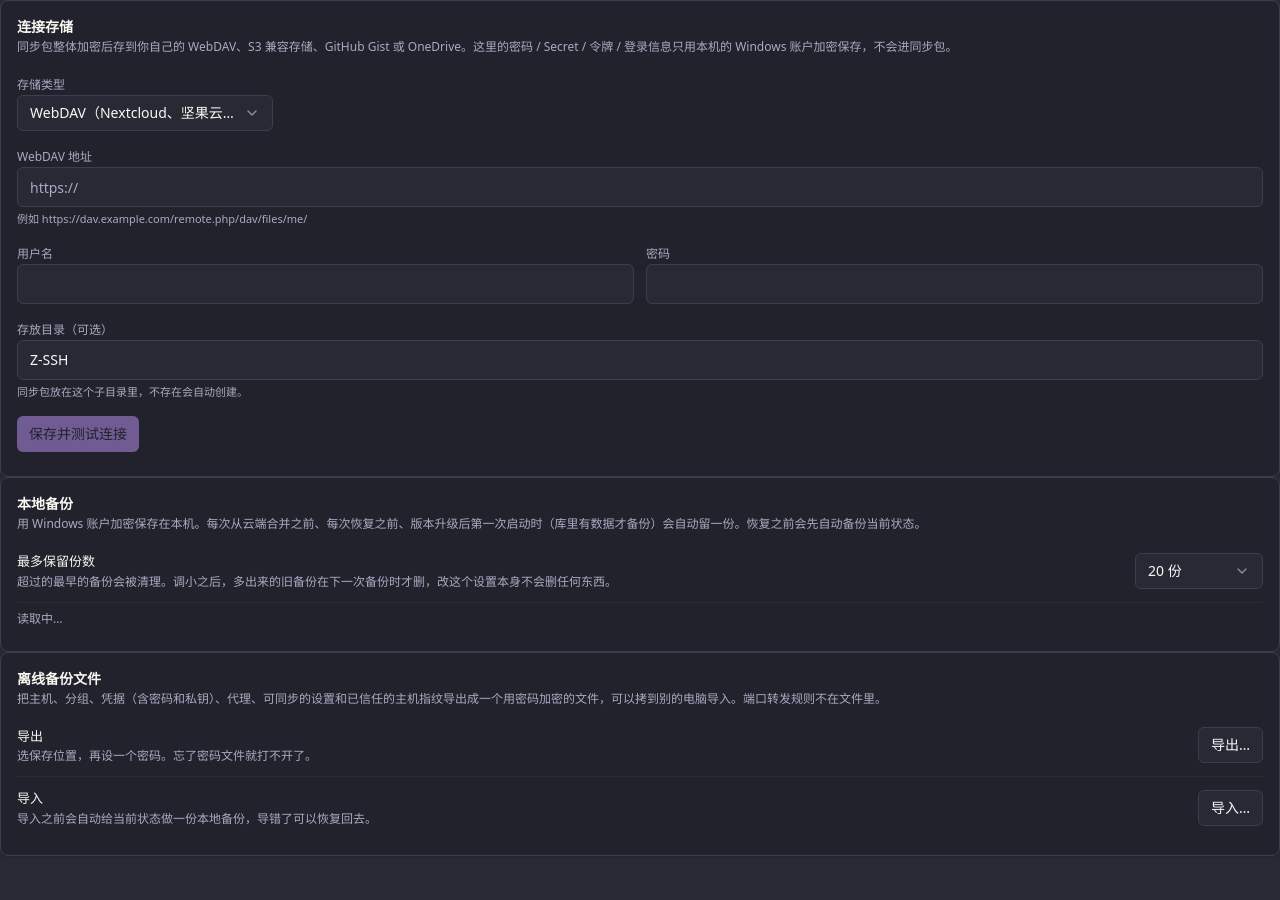
未配置 / 连接 › 没连接存储时只有连接表单，保存按钮在填完之前不可点
The image size is (1280, 900).
expect the element with test id "sync-connection-form" is shown: met, box [17,63,1263,460]
expect the button "保存并测试连接" is disabled: met, box [17,416,139,452]
Type "https://dav.example.internal/" into the field labelled "WebDAV 地址".
click(640, 187); type("https://dav.example.internal/")  # box [17,167,1263,207]
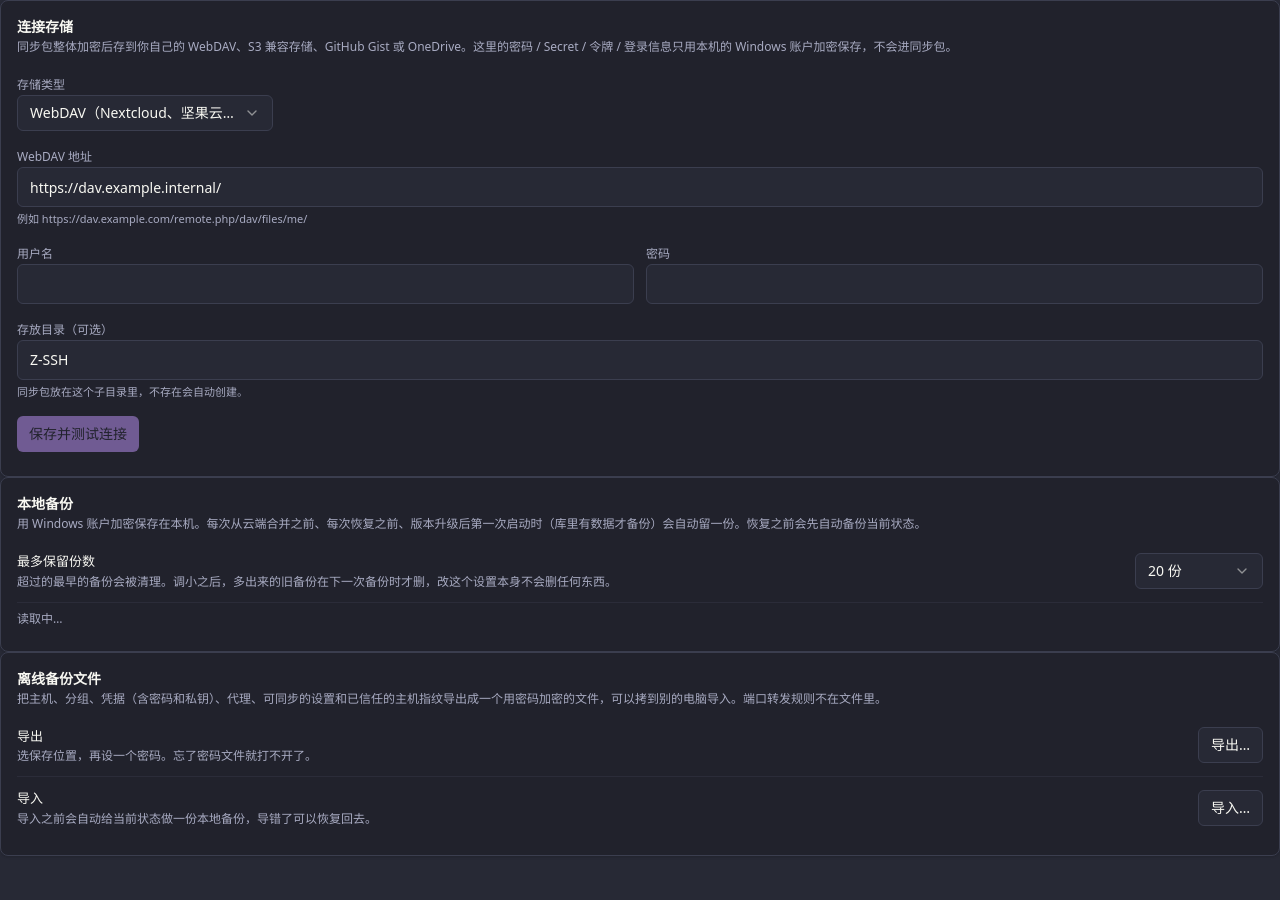
Type "alice" into the field labelled "用户名".
click(326, 284); type("alice")  # box [17,264,634,304]
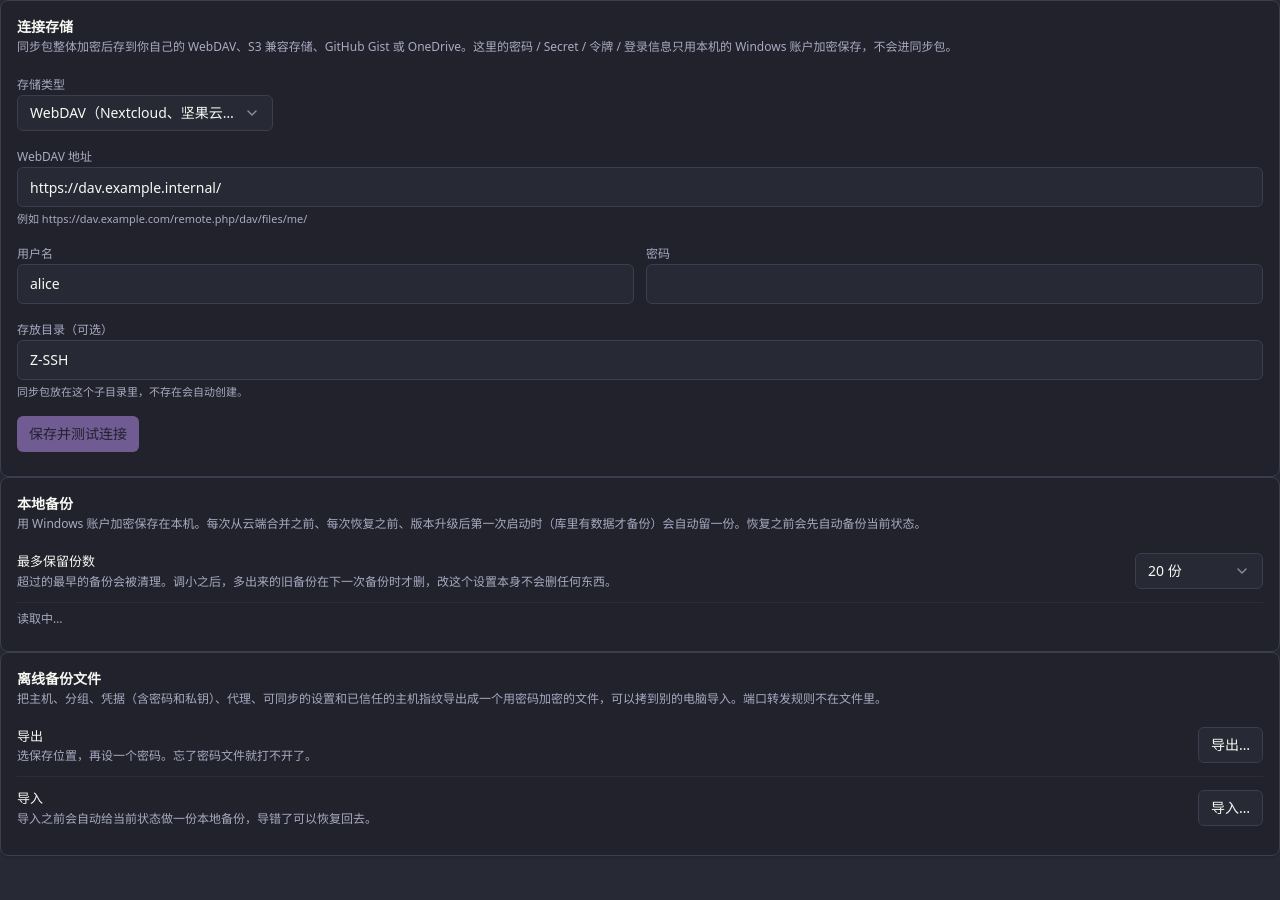
expect the button "保存并测试连接" is disabled: met, box [17,416,139,452]
Type "secret" into the password field labelled "密码".
click(954, 284); type("secret")  # box [646,264,1263,304]
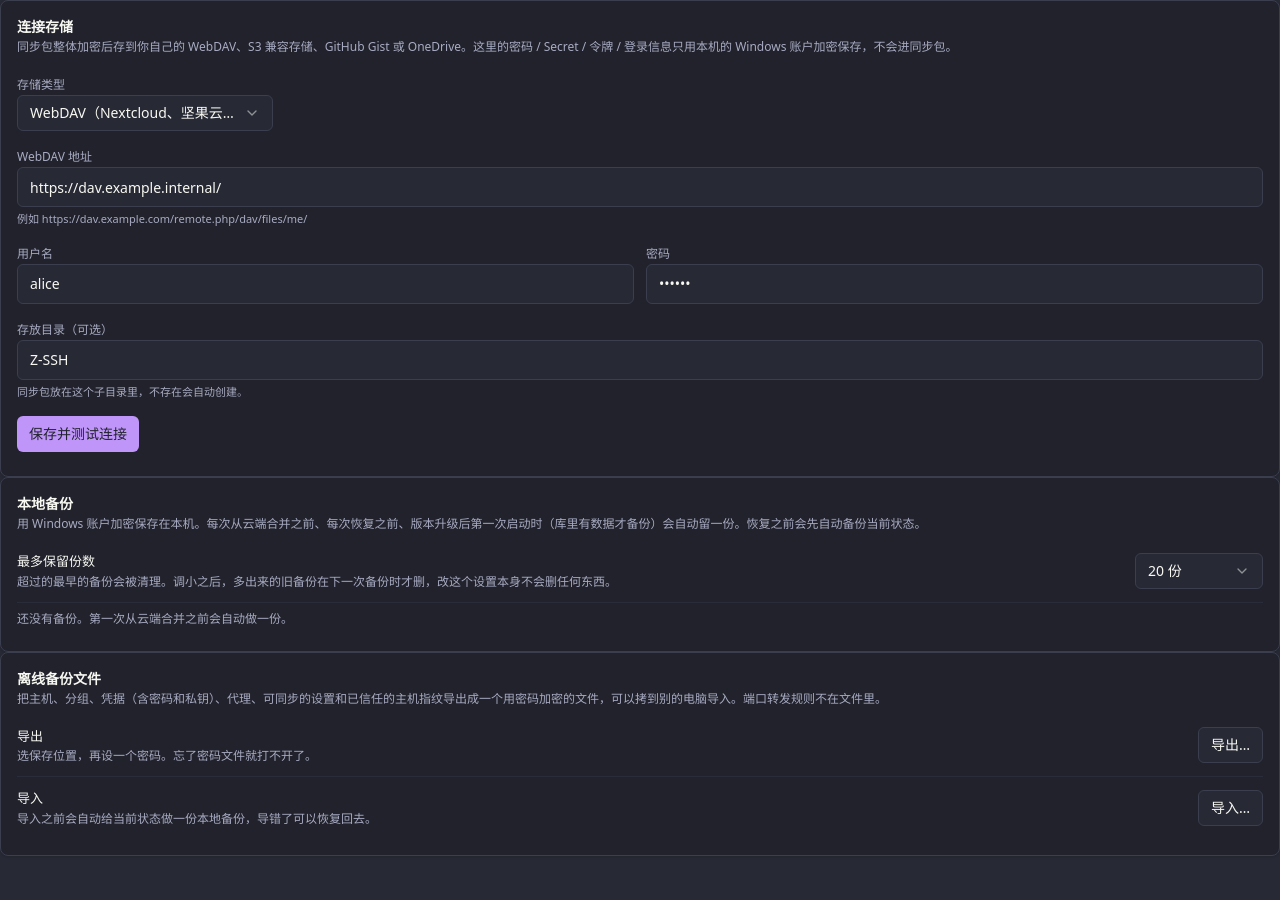
expect the button "保存并测试连接" is enabled: met, box [17,416,139,452]
